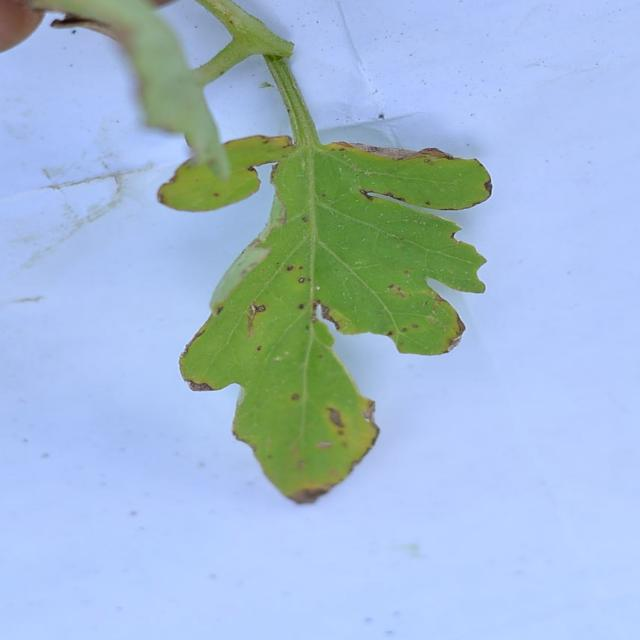infected: (157, 140, 492, 501)
